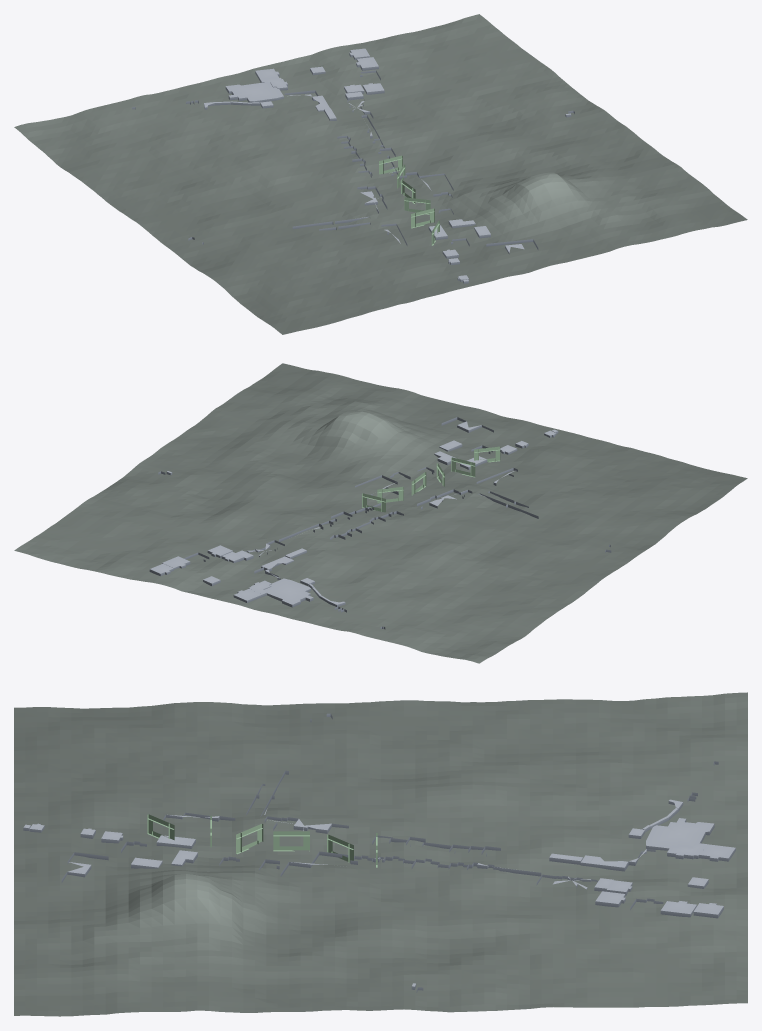
Rendered from teotihuacan_chisel_collider.glb.
3 renders of one model, top to bottom at view 1: azimuth 30°, elevation 25°; view 2: azimuth 150°, elevation 25°; view 3: azimuth 270°, elevation 25°, orthographic. The views are drawn at different scales.
Parts seen in each view (by area): view 1: DISTRICT_CHISEL_COLLIDER; view 2: DISTRICT_CHISEL_COLLIDER; view 3: DISTRICT_CHISEL_COLLIDER.
Boxes of the visible parts, x1,y1,x2,y2 form: DISTRICT_CHISEL_COLLIDER: (14, 14, 747, 334); DISTRICT_CHISEL_COLLIDER: (14, 363, 747, 663); DISTRICT_CHISEL_COLLIDER: (14, 692, 747, 1016).
Bounding box in the file's own units: 160 × 10.41 × 160.
